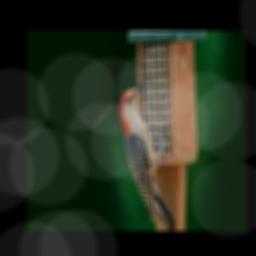Woodpecker: (119, 77, 176, 229)
